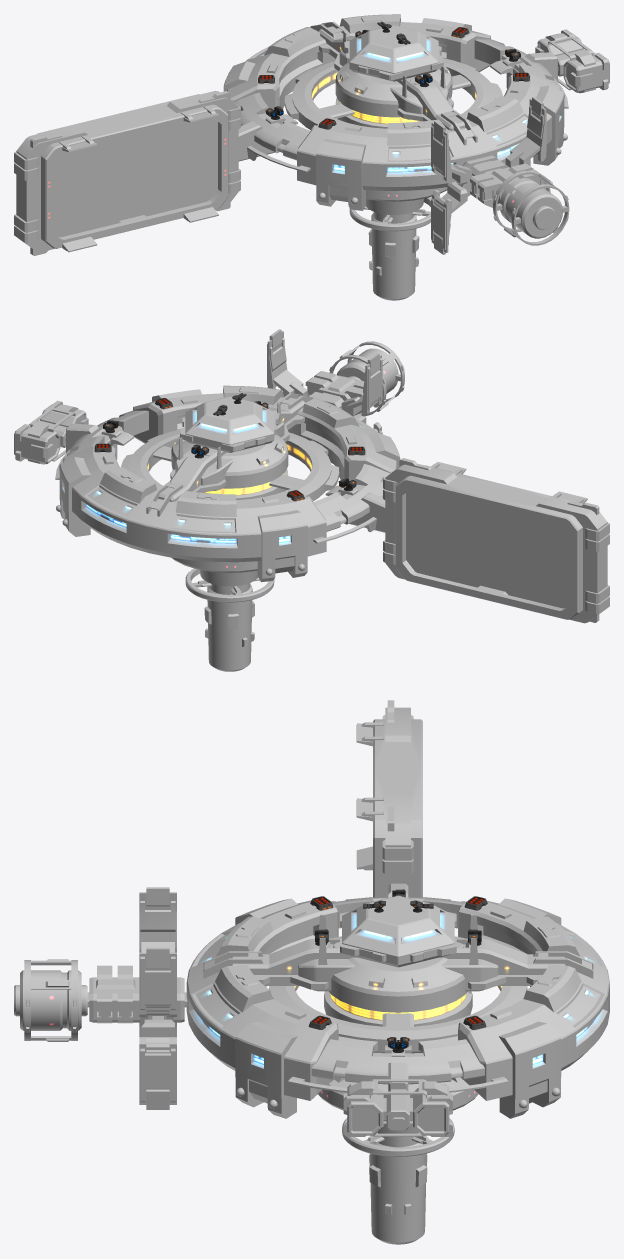
File: Station_blue.FBX
3 renders of one model, top to bottom at view 1: azimuth 30°, elevation 25°; view 2: azimuth 150°, elevation 25°; view 3: azimuth 270°, elevation 25°, orthographic. The views are drawn at different scales.
Parts seen in each view (by area): view 1: Station_Core, Station_WarpDrive-Energy, Station_WarpDrive, Station_Ring, Station_Block-B, Station_Energy001, Station_Block-C001, Station_Block-A, Station_Energy; view 2: Station_Core, Station_WarpDrive-Energy001, Station_WarpDrive, Station_Ring, Station_Block-C001, Station_Block-B, Station_Energy001, Station_Energy, Station_Block-A; view 3: Station_Core, Station_WarpDrive, Station_Energy, Station_Block-C001, Station_Block-B, Station_Ring, Station_Block-A, Station_Energy001.
Boxes of the visible parts, x1=… form: Station_Core: x1=223, y1=14, x2=568, y2=300; Station_WarpDrive-Energy: x1=53, y1=117, x2=217, y2=237; Station_WarpDrive: x1=14, y1=90, x2=240, y2=255; Station_Ring: x1=284, y1=58, x2=502, y2=129; Station_Block-B: x1=493, y1=170, x2=569, y2=245; Station_Energy001: x1=431, y1=120, x2=472, y2=254; Station_Block-C001: x1=535, y1=29, x2=609, y2=93; Station_Block-A: x1=462, y1=155, x2=541, y2=207; Station_Energy: x1=505, y1=96, x2=546, y2=189; Station_Core: x1=55, y1=385, x2=400, y2=671; Station_WarpDrive-Energy001: x1=406, y1=488, x2=570, y2=608; Station_WarpDrive: x1=383, y1=458, x2=609, y2=623; Station_Ring: x1=121, y1=429, x2=339, y2=501; Station_Block-C001: x1=14, y1=400, x2=88, y2=464; Station_Block-B: x1=329, y1=341, x2=404, y2=416; Station_Energy001: x1=340, y1=353, x2=382, y2=434; Station_Energy: x1=267, y1=329, x2=307, y2=396; Station_Block-A: x1=305, y1=371, x2=364, y2=414; Station_Core: x1=186, y1=883, x2=609, y2=1244; Station_WarpDrive: x1=356, y1=700, x2=422, y2=897; Station_Energy: x1=139, y1=947, x2=176, y2=1109; Station_Block-C001: x1=343, y1=1079, x2=452, y2=1136; Station_Block-B: x1=14, y1=959, x2=87, y2=1041; Station_Ring: x1=269, y1=936, x2=527, y2=1051; Station_Block-A: x1=87, y1=965, x2=187, y2=1023; Station_Energy001: x1=139, y1=887, x2=176, y2=1036.
Bounding box in the file's own units: 59199 × 41933 × 25858.
